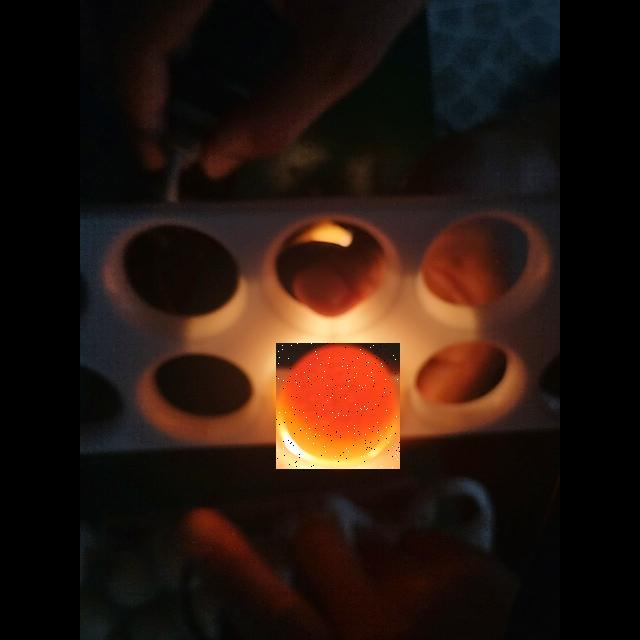Infertile: (276, 343, 400, 469)
